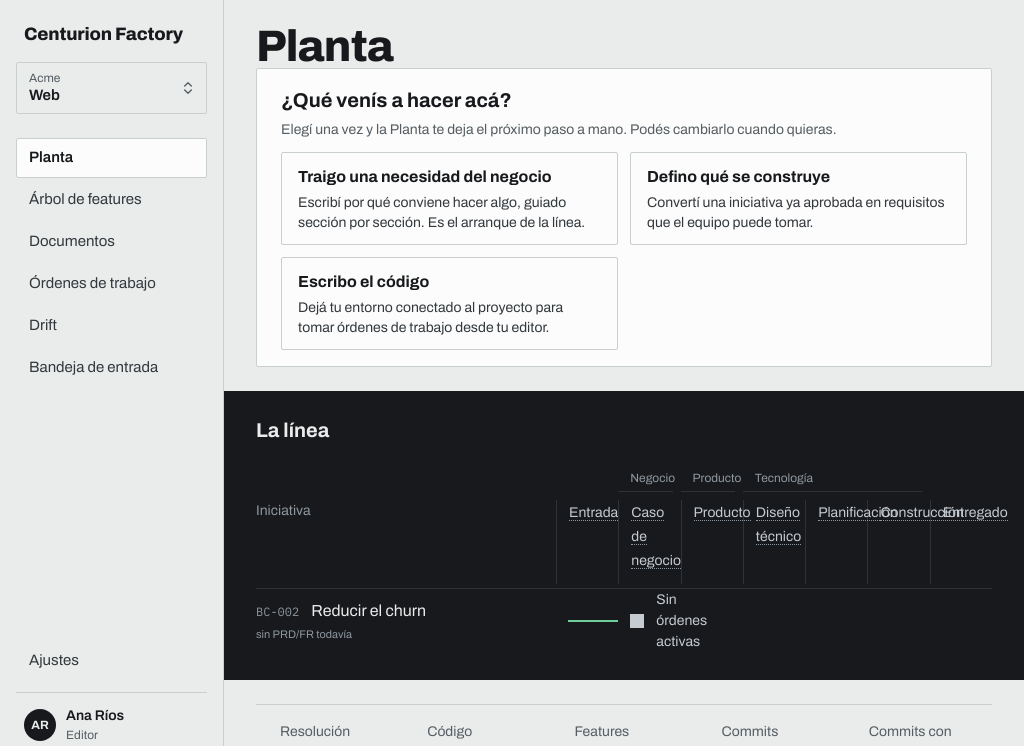
ProfileBand — against a server that predates the profile (production incident) › when that server cannot save the choice, it says so and asks again instead of pretending
Click the button "Defino qué se construye".
click(798, 199)  # box [630,152,967,245]
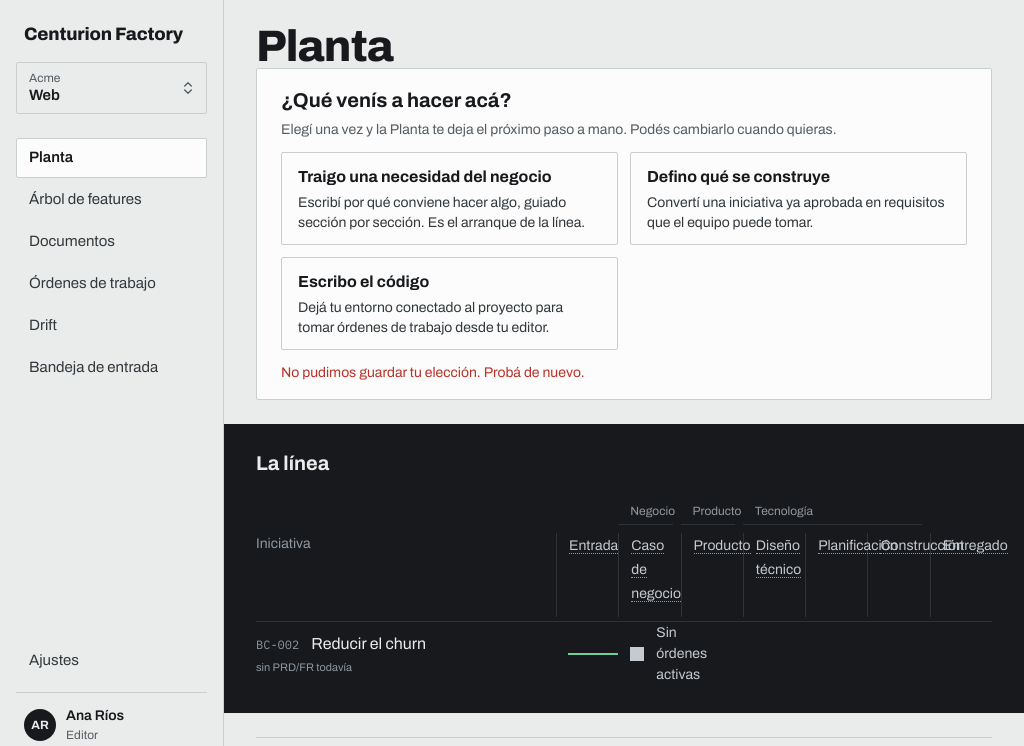
Expected: the heading "¿Qué venís a hacer acá?" is shown, [281,89,512,111]
Expected: the message shows "No pudimos guardar tu elección", [281,365,585,380]
